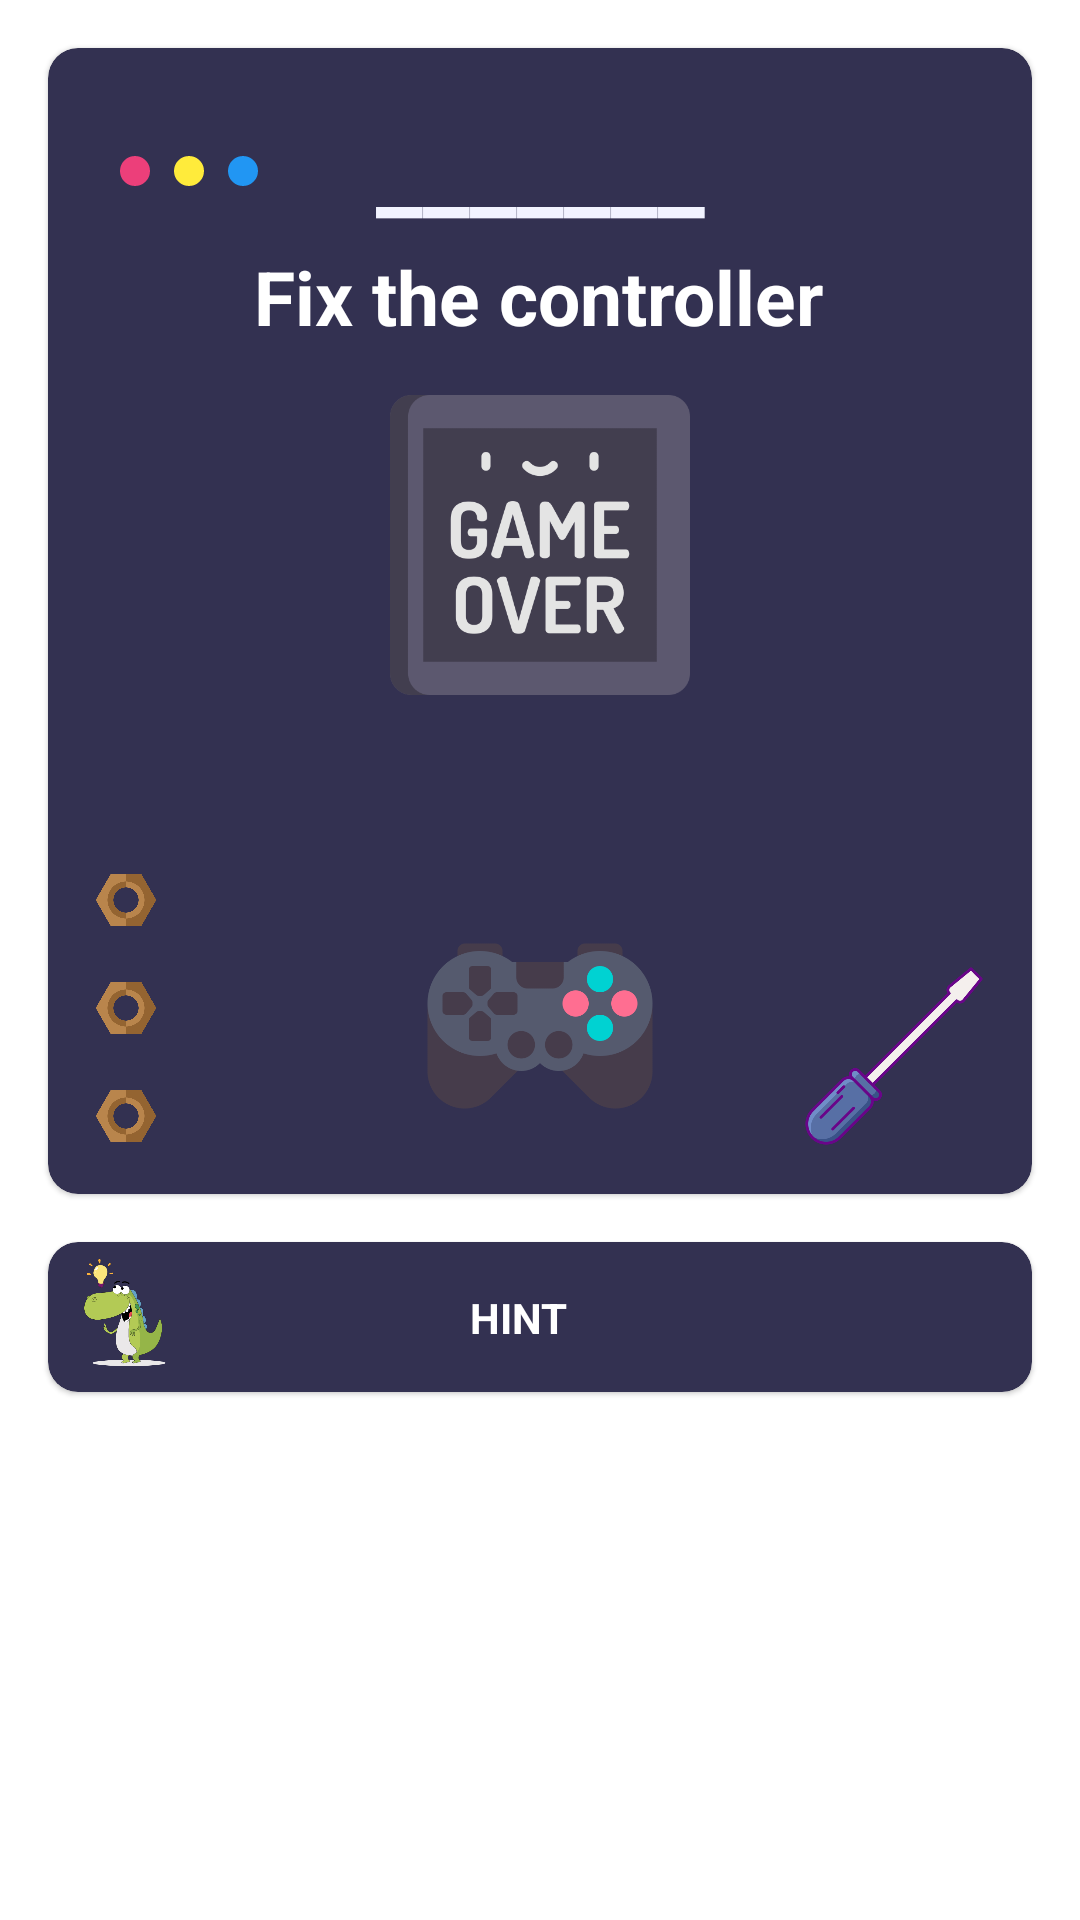

Icons on this 1080px x 1920px Android screen, each with the point to tap as [x,y]:
controller: [540,1011]
idea: [123,1317]
monitor: [540,545]
screw: [126,900], [126,1008], [126,1116]
screwdriver: [894,1056]
